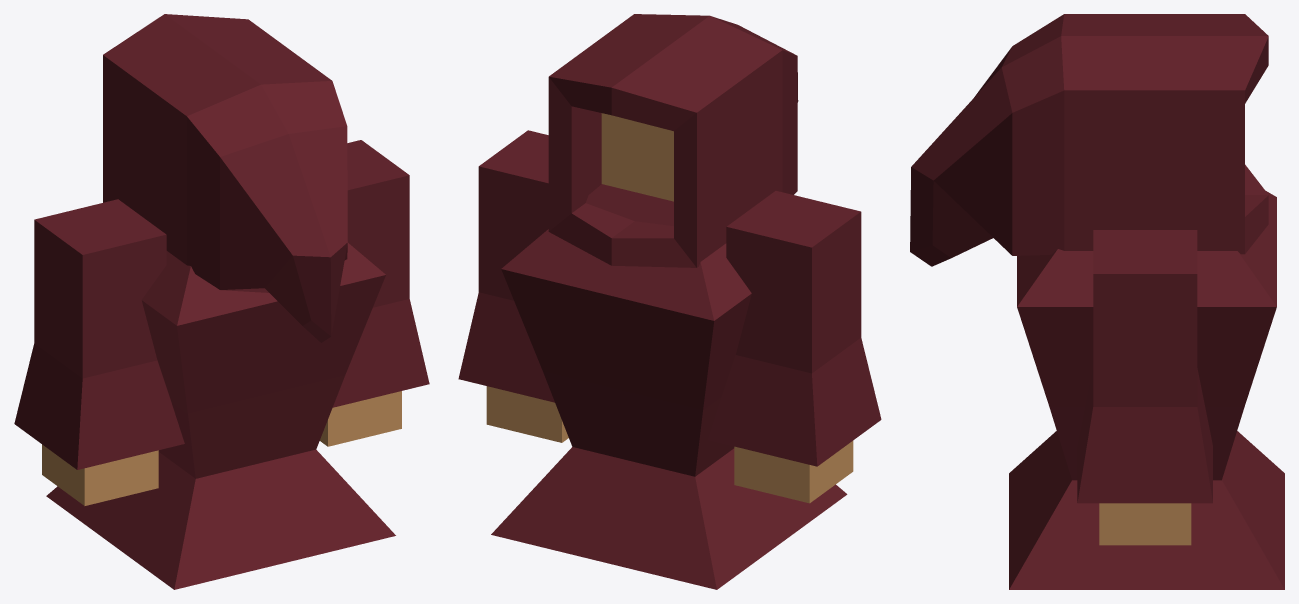
The model's file is Kultisti_mod.fbx.
3 renders of one model, left to right at view 1: azimuth 30°, elevation 25°; view 2: azimuth 150°, elevation 25°; view 3: azimuth 270°, elevation 25°, orthographic. The views are drawn at different scales.
Parts seen in each view (by area): view 1: Kultisti; view 2: Kultisti; view 3: Kultisti.
Part boxes in pixels (bbox=[...]): Kultisti: bbox=[14, 14, 429, 589]; Kultisti: bbox=[458, 14, 881, 589]; Kultisti: bbox=[910, 14, 1284, 589].
Size of the model in its own units: 145 by 181 by 124.
